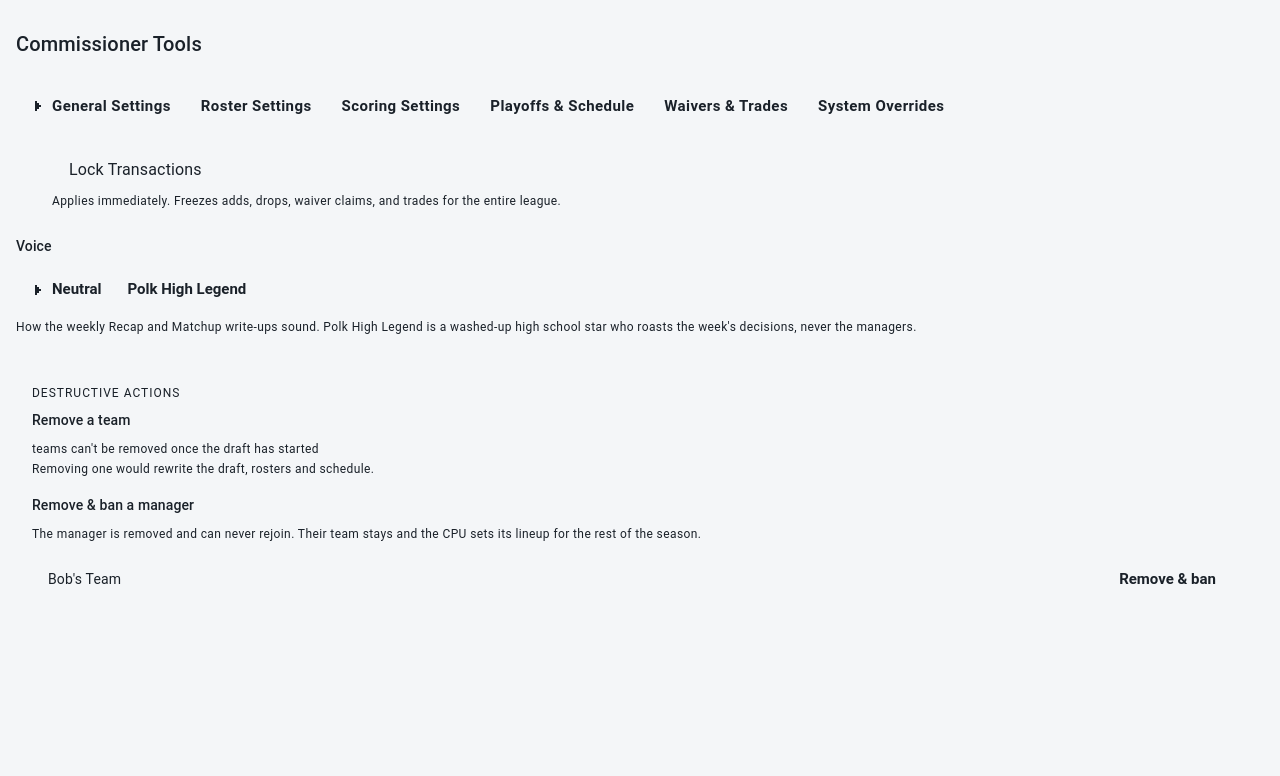
Test: Scoring Settings is frozen once the draft has started
The image size is (1280, 776).
Click the tab "Scoring Settings" at (401, 106), box 326,84 -> 476,128
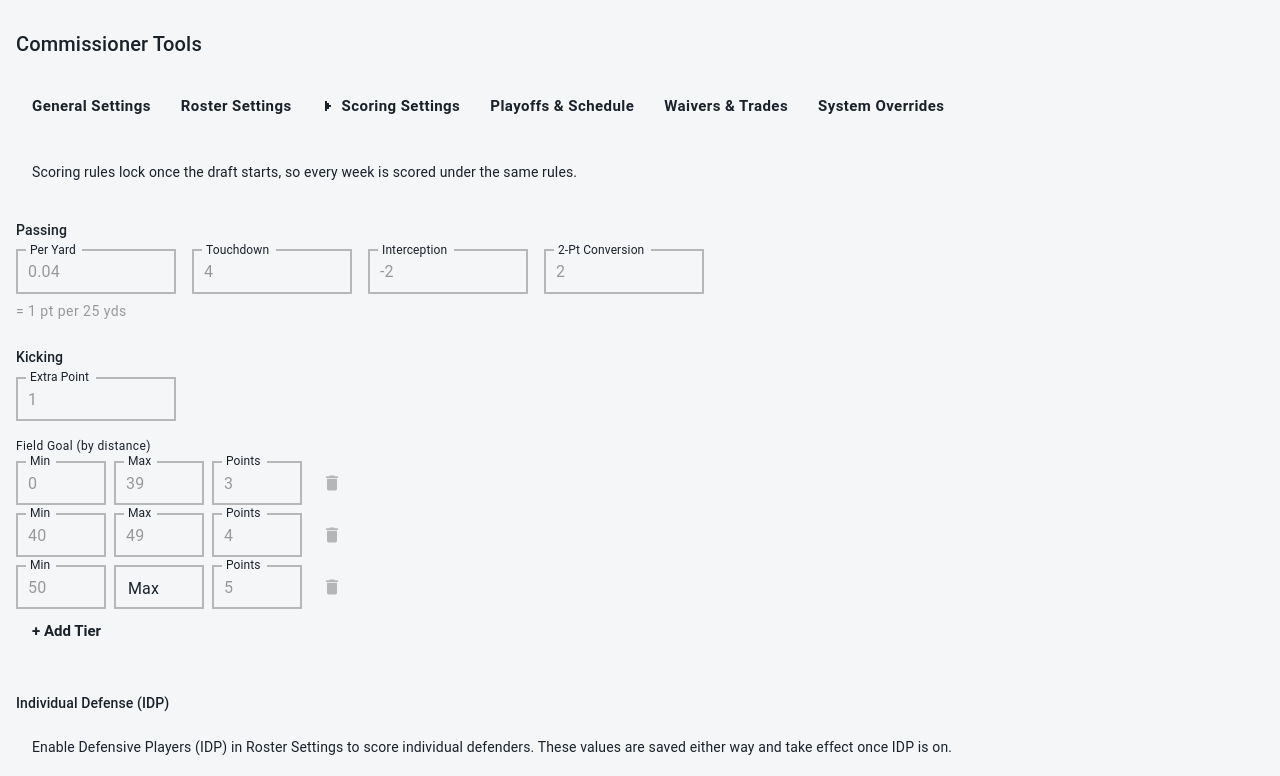
Result: the text "lock once the draft starts" is shown at 32,164 -> 577,180
Result: the number field labelled "Per Yard" is disabled at 16,250 -> 176,294
